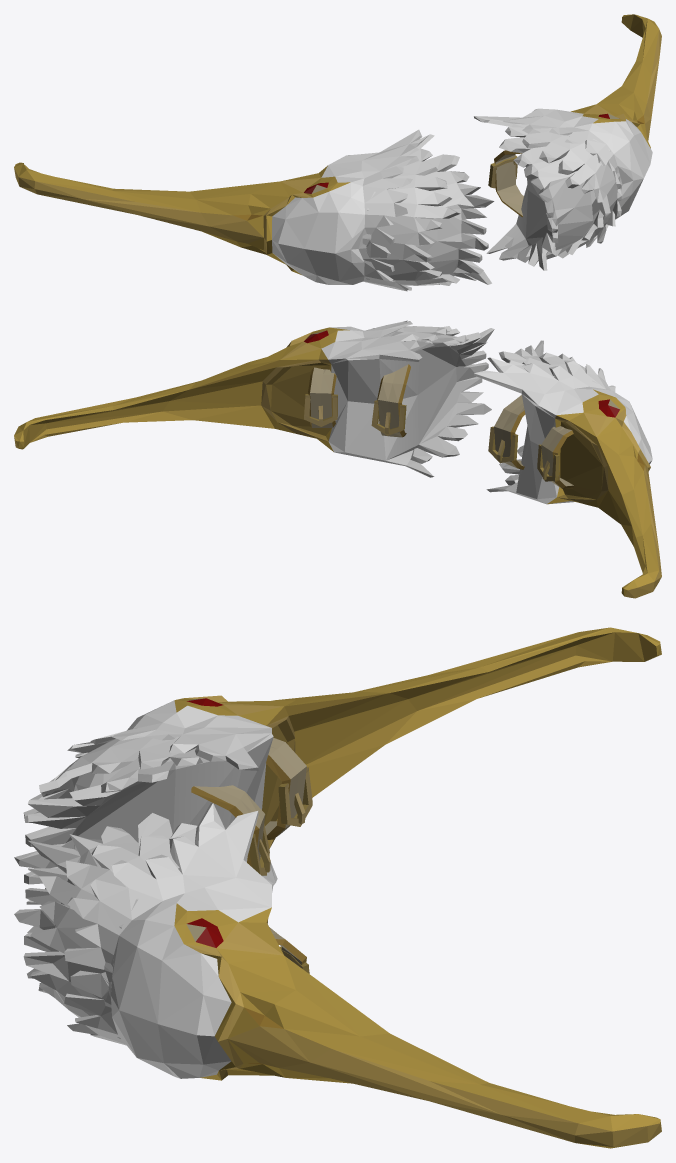
Rendered from smallCrossbowPelicanWarriorTip.glb.
3 renders of one model, top to bottom at view 1: azimuth 30°, elevation 25°; view 2: azimuth 150°, elevation 25°; view 3: azimuth 270°, elevation 25°, orthographic. The views are drawn at different scales.
Visible parts, largest first — view 1: smallCrossbowPelicanWarriorTip; view 2: smallCrossbowPelicanWarriorTip; view 3: smallCrossbowPelicanWarriorTip.
Boxes of the visible parts, x1,y1,x2,y2 form: smallCrossbowPelicanWarriorTip: (14,14,661,291); smallCrossbowPelicanWarriorTip: (14,320,661,598); smallCrossbowPelicanWarriorTip: (14,627,661,1148).
Size of the model in its own units: 0.5967 by 0.1206 by 0.3264.
